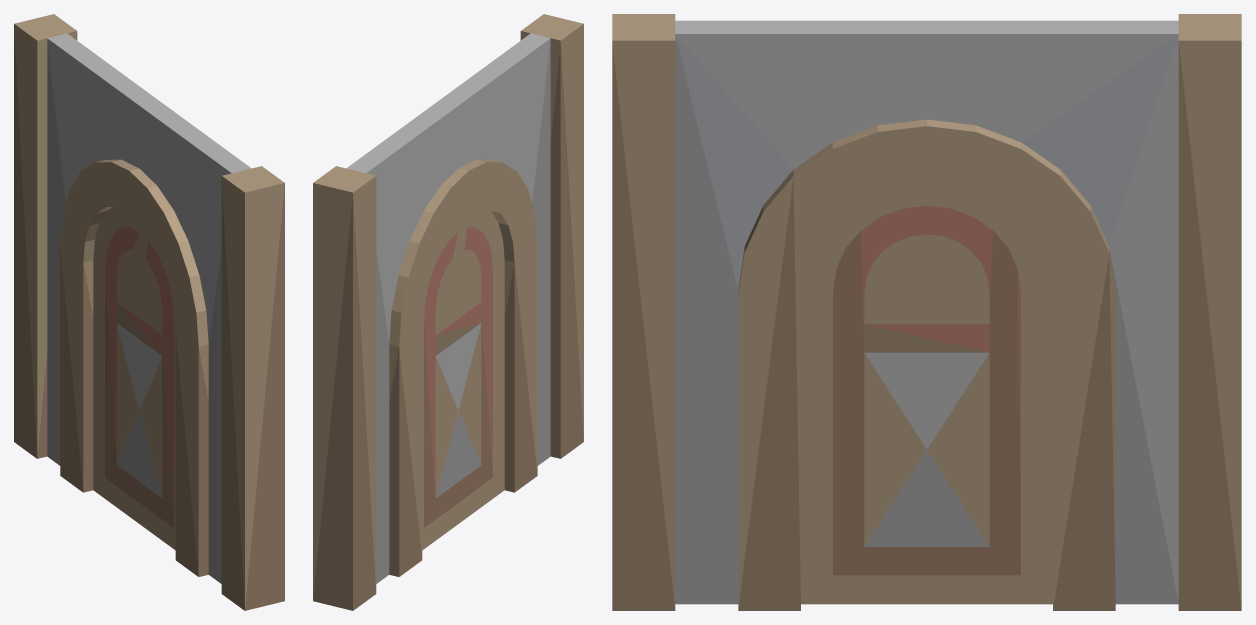
3 views of the same model, side by side, from view 1: azimuth 30°, elevation 25°; view 2: azimuth 150°, elevation 25°; view 3: azimuth 270°, elevation 25° (orthographic). The views are drawn at different scales.
Parts seen in each view (by area): view 1: model; view 2: model; view 3: model.
Part boxes in pixels (<box>): model: <box>14,14,284,610</box>; model: <box>313,14,583,610</box>; model: <box>612,14,1241,610</box>.
Bounding box in the file's own units: 0.2 × 2 × 2.
